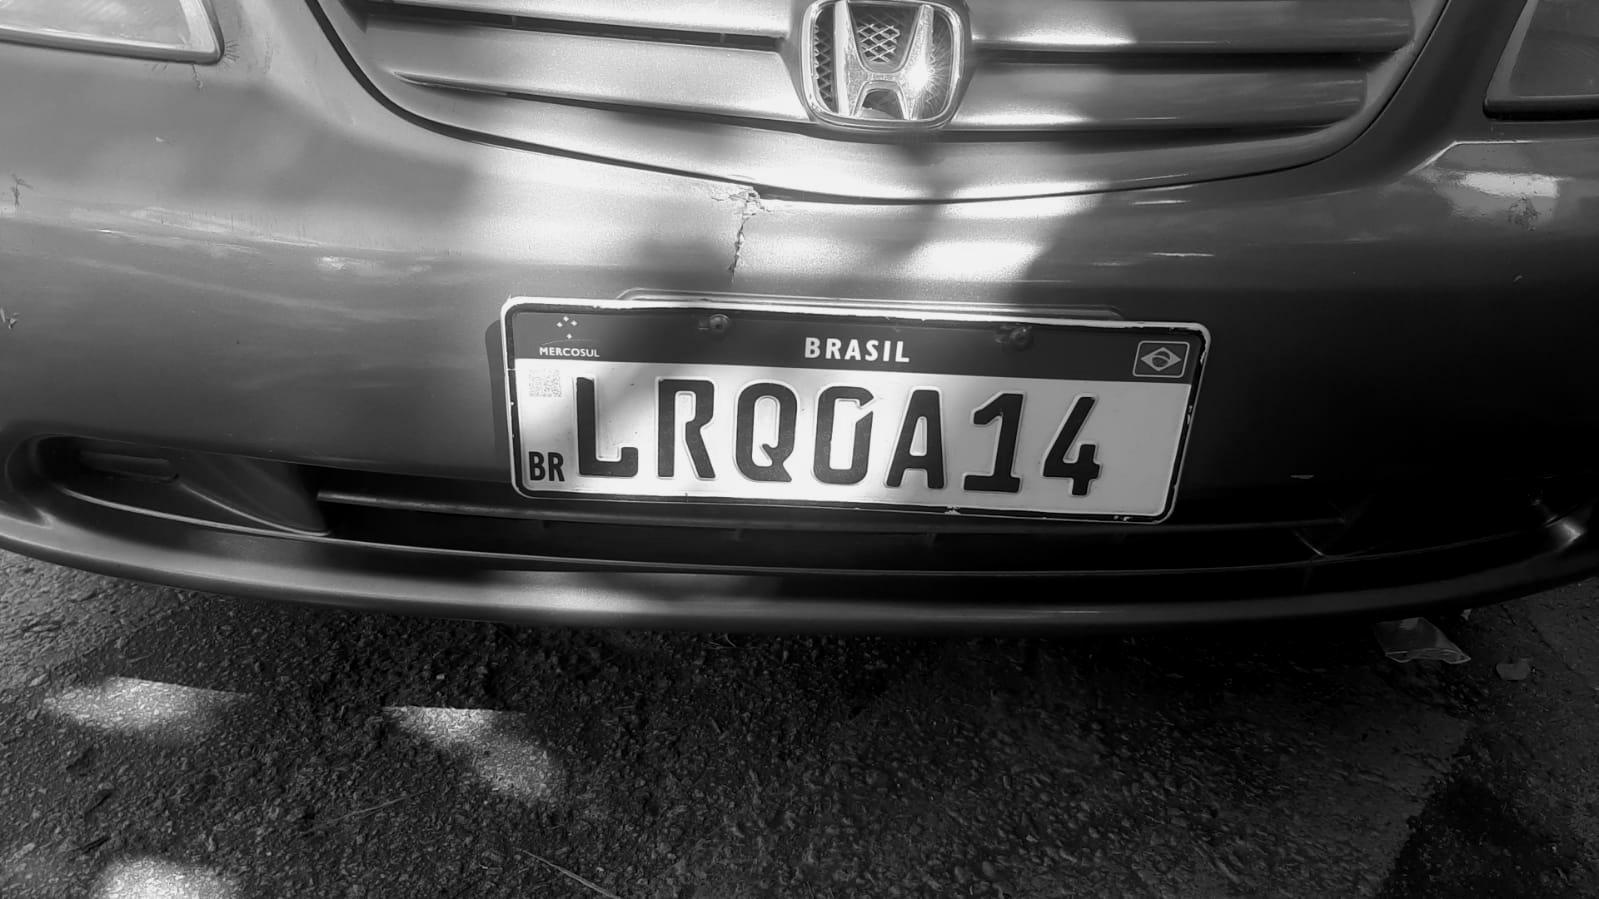placa_mercosul: (506, 299, 1196, 523)
